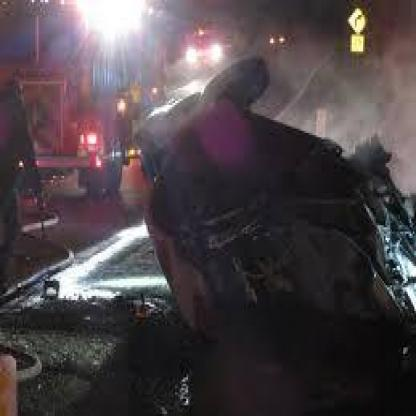other: (56, 0, 152, 51), (181, 34, 228, 65)
